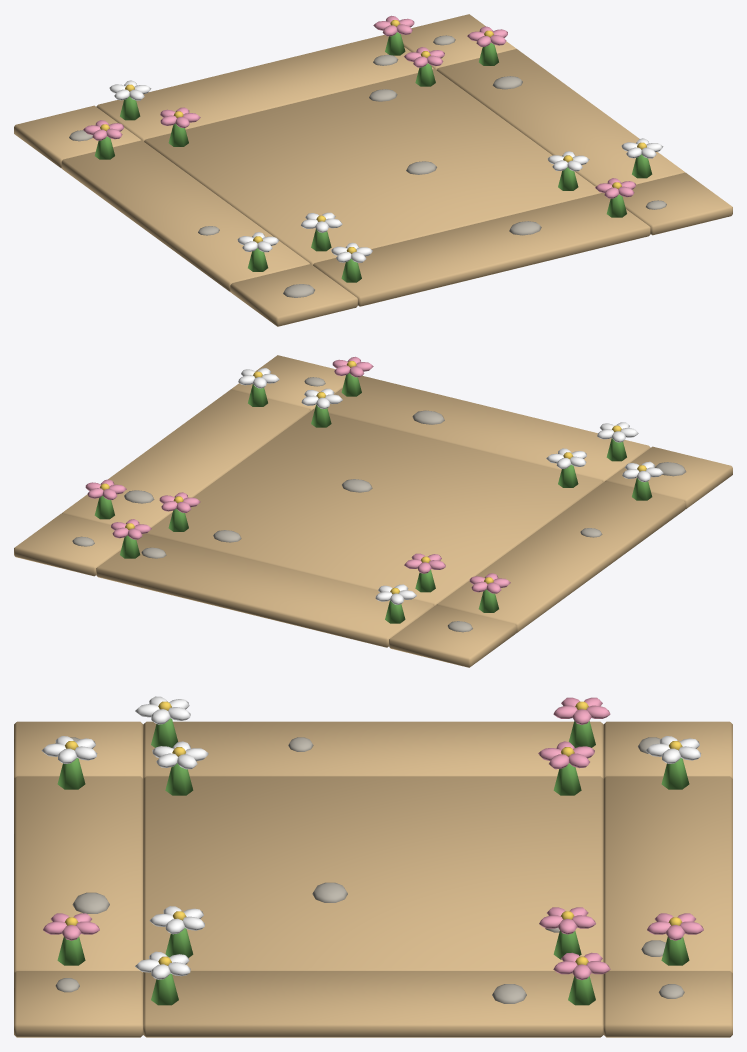
Rendered from path-flower.glb.
3 renders of one model, top to bottom at view 1: azimuth 30°, elevation 25°; view 2: azimuth 150°, elevation 25°; view 3: azimuth 270°, elevation 25°, orthographic. The views are drawn at different scales.
Parts seen in each view (by area): view 1: core, link_s, link_w, link_n, link_e, link_sw, link_se, link_nw, link_ne; view 2: core, link_n, link_w, link_s, link_e, link_nw, link_ne, link_sw, link_se; view 3: core, link_e, link_n, link_s, link_w, link_se, link_ne, link_nw, link_sw.
Part boxes in pixels (bbox=[...]): core: bbox=[144, 47, 601, 264]; link_s: bbox=[313, 178, 650, 306]; link_w: bbox=[61, 120, 310, 291]; link_n: bbox=[96, 15, 433, 141]; link_e: bbox=[436, 26, 684, 193]; link_sw: bbox=[230, 264, 357, 326]; link_se: bbox=[622, 172, 732, 235]; link_nw: bbox=[14, 105, 141, 168]; link_ne: bbox=[401, 14, 516, 69]; core: bbox=[145, 388, 602, 605]; link_n: bbox=[96, 519, 433, 647]; link_w: bbox=[436, 461, 685, 632]; link_s: bbox=[313, 356, 650, 482]; link_e: bbox=[62, 368, 310, 534]; link_nw: bbox=[389, 605, 516, 667]; link_ne: bbox=[14, 513, 124, 576]; link_sw: bbox=[605, 446, 732, 509]; link_se: bbox=[230, 355, 345, 410]; core: bbox=[143, 741, 603, 973]; link_e: bbox=[135, 951, 610, 1037]; link_n: bbox=[603, 736, 732, 972]; link_s: bbox=[14, 736, 143, 972]; link_w: bbox=[135, 696, 610, 778]; link_se: bbox=[14, 971, 143, 1037]; link_ne: bbox=[603, 971, 732, 1037]; link_nw: bbox=[603, 721, 732, 778]; link_sw: bbox=[14, 721, 143, 778].
Bounding box in the file's own units: 1 × 0.088 × 1.
